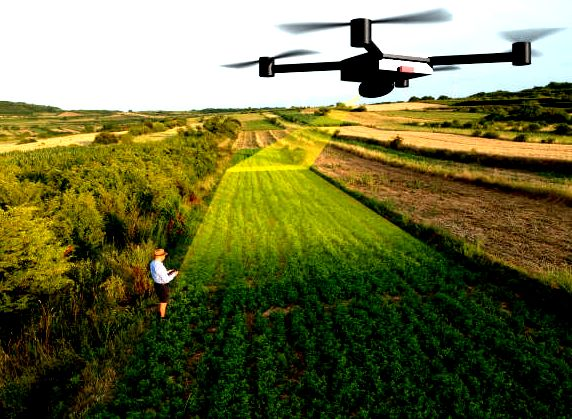Drone: (217, 6, 566, 97)
